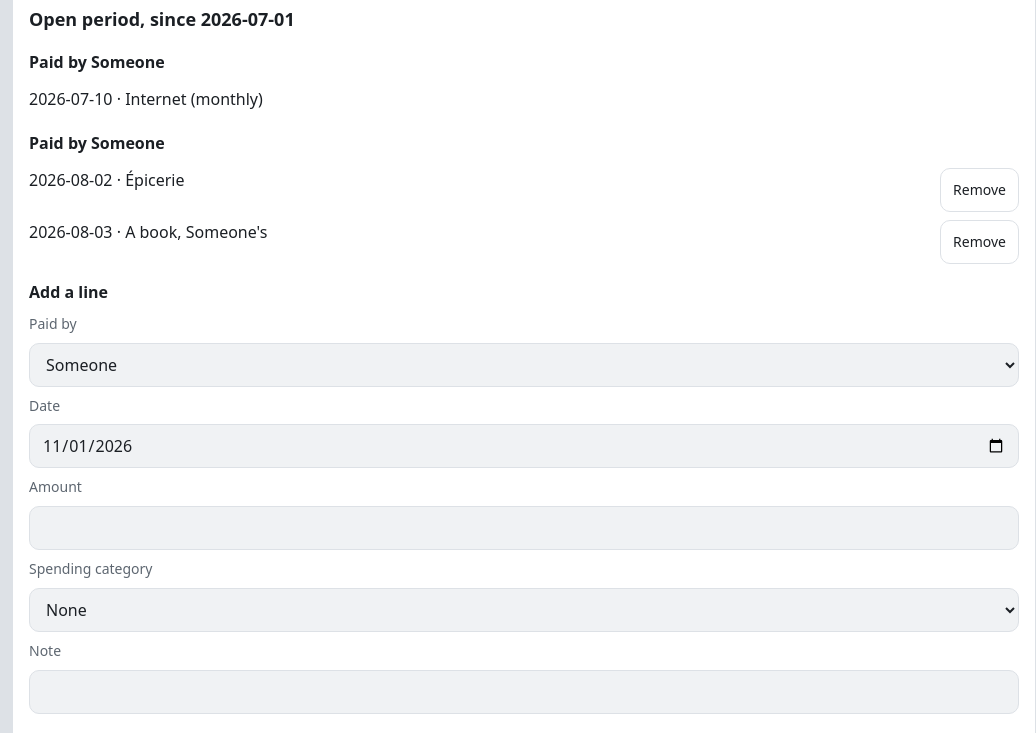
Test: removing a stored line retires it
What coordinates should you click on to do the following:
click the button with aria-label "Remove 2026-08-02 Épicerie"
I would click on:
 (980, 190)
Its box is [940,168,1019,212].
(page scrolled)
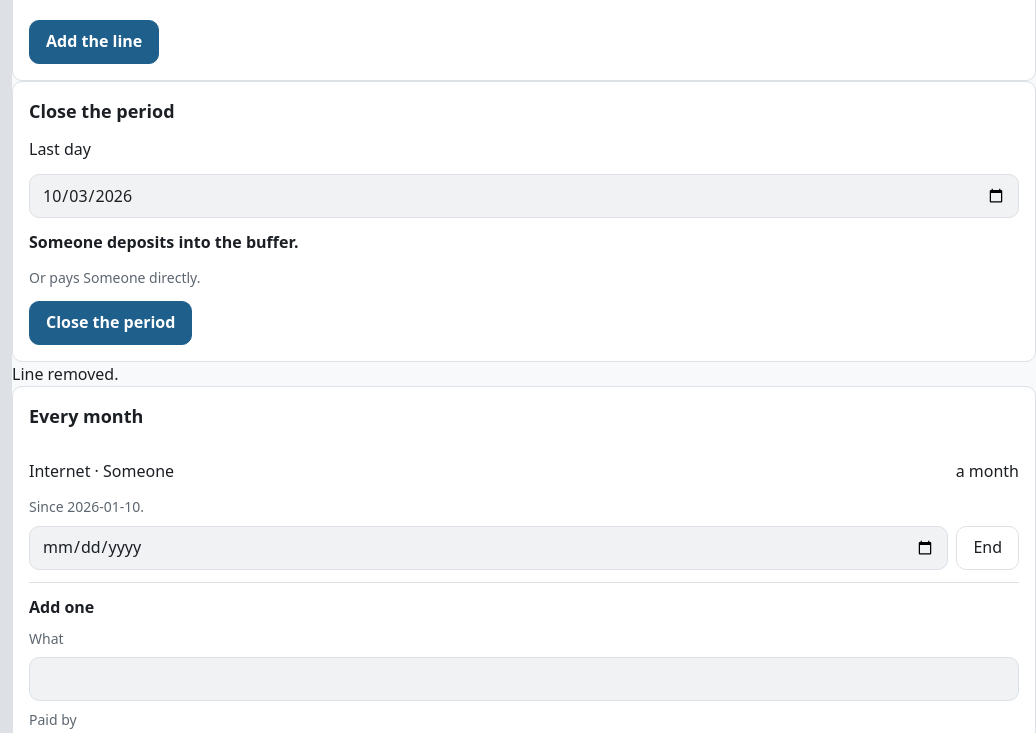
expect the text "Line removed." is shown: met, box [12,363,118,385]
